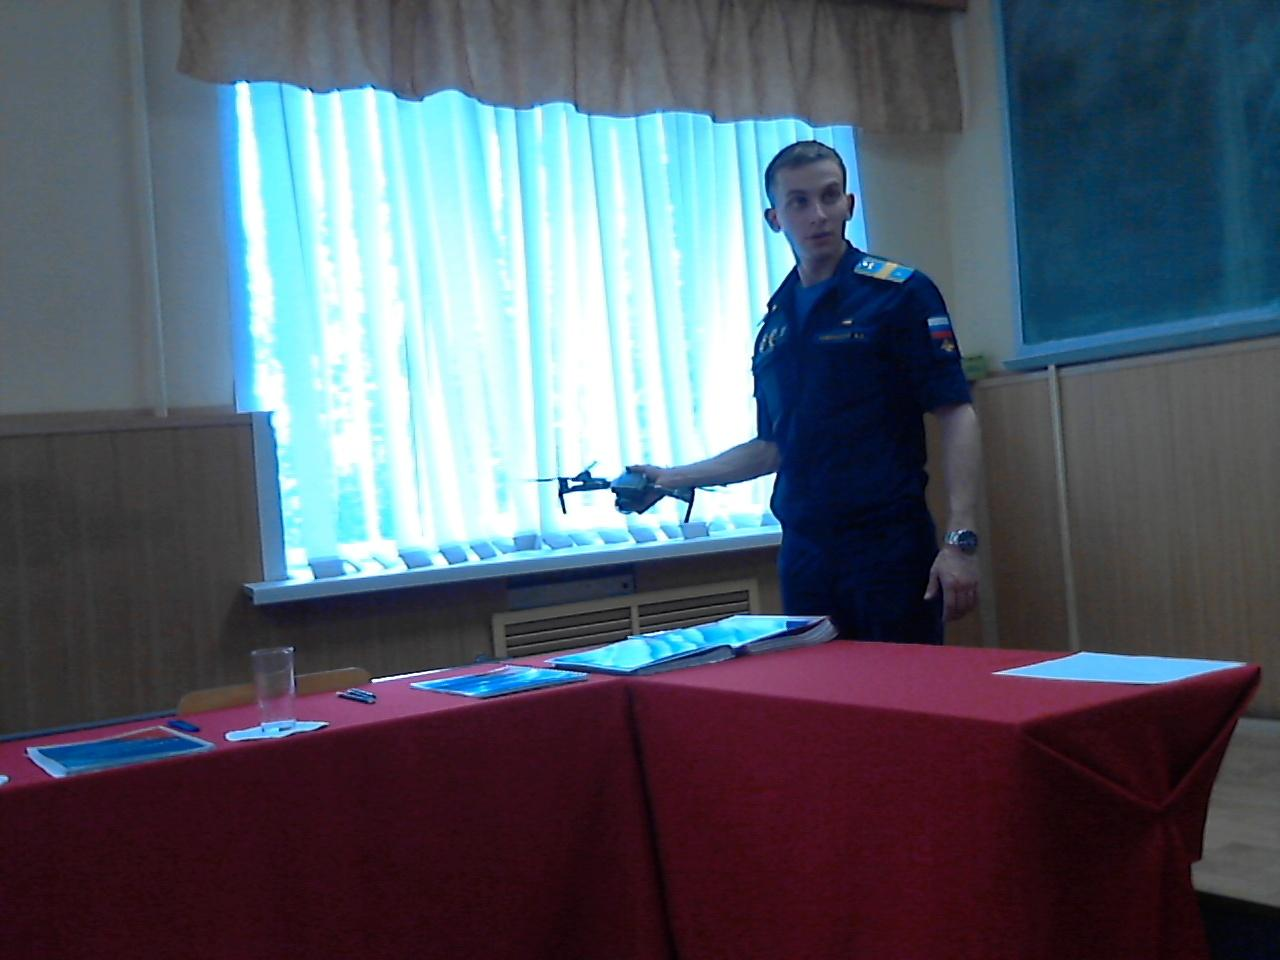drone: (528, 422, 721, 530)
